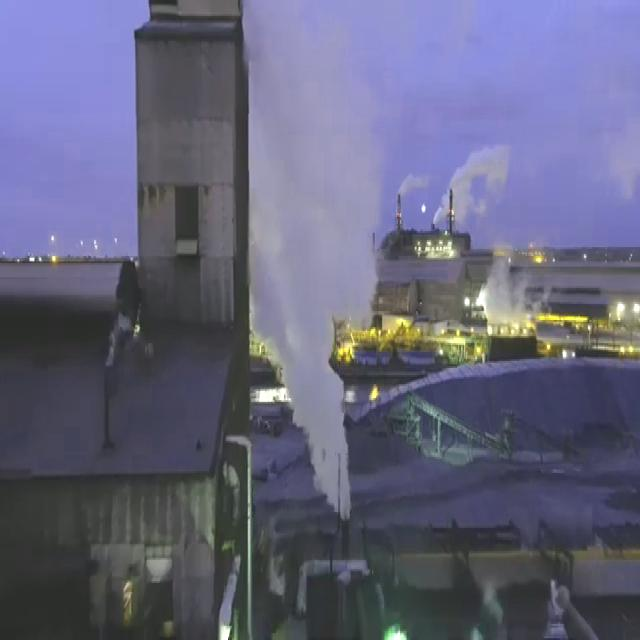smoke: (245, 0, 374, 521), (396, 142, 510, 249), (483, 249, 559, 356)
